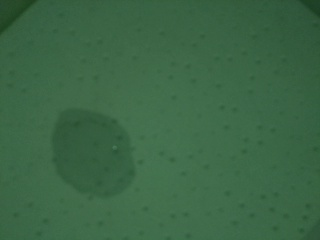Water_detected: (52, 112, 132, 192)
